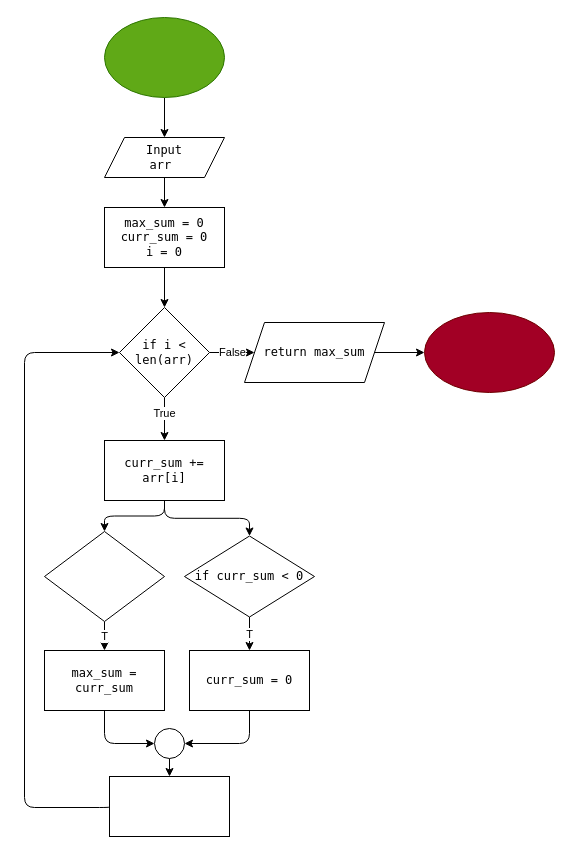
The diagram is 572 pixels wide and 854 high, and some of its shapes have lost their labels. The centre of each missing label's shape, as x and y in pixels:
"End" goes at [489,352].
"i += 1" goes at [169,806].
"if curr_sum > max_sum" goes at [104,576].
"Start" goes at [164,57].
